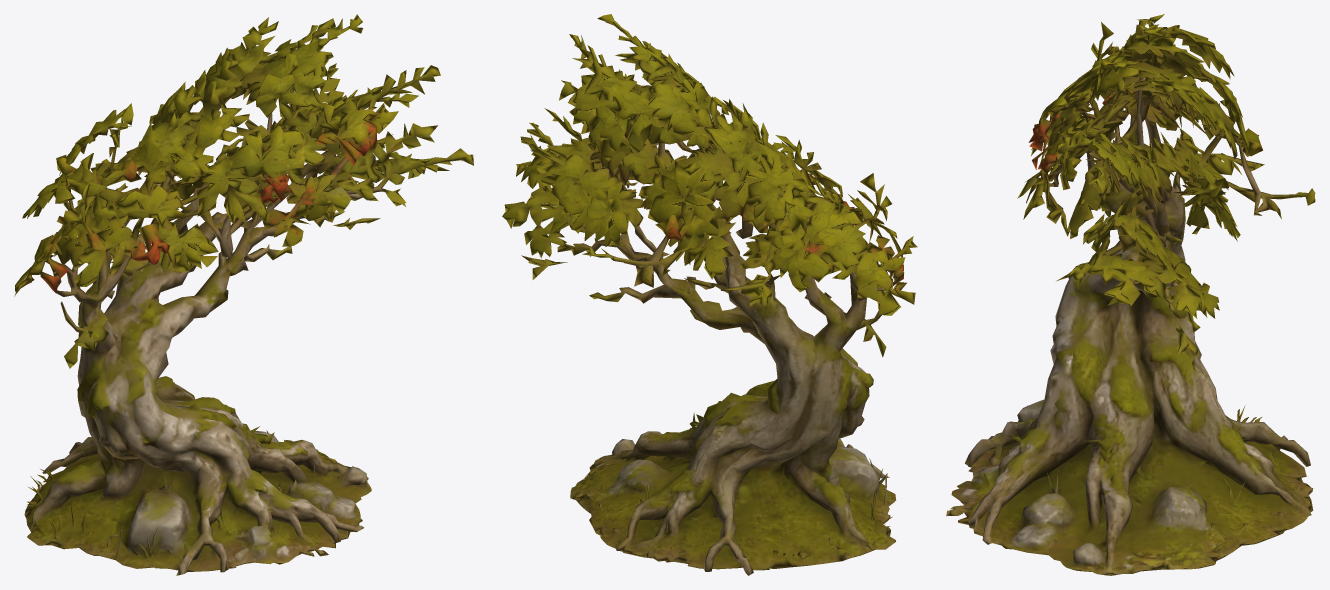
File: rowan_tree_tripo.glb
3 renders of one model, left to right at view 1: azimuth 30°, elevation 25°; view 2: azimuth 150°, elevation 25°; view 3: azimuth 270°, elevation 25°, orthographic. The views are drawn at different scales.
Visible parts, largest first — view 1: tripo_node_fdab672a-af62-4438-ba43-eb6dfdb25c27; view 2: tripo_node_fdab672a-af62-4438-ba43-eb6dfdb25c27; view 3: tripo_node_fdab672a-af62-4438-ba43-eb6dfdb25c27.
Boxes of the visible parts, left/top/right/bottom form: tripo_node_fdab672a-af62-4438-ba43-eb6dfdb25c27: left=14, top=14, right=473, bottom=575; tripo_node_fdab672a-af62-4438-ba43-eb6dfdb25c27: left=502, top=14, right=917, bottom=575; tripo_node_fdab672a-af62-4438-ba43-eb6dfdb25c27: left=946, top=14, right=1315, bottom=575.
Size of the model in its own units: 0.9744 by 1 by 0.6558.
1 material, 1 textured.
